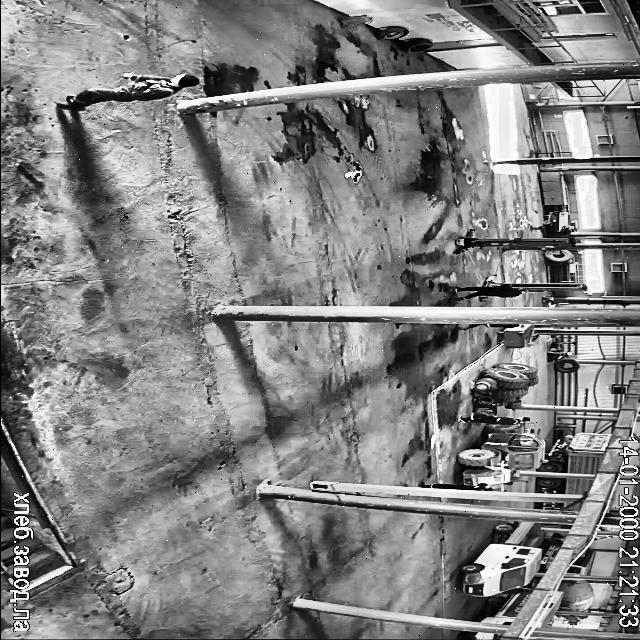car lift: (454, 229, 575, 253), (484, 275, 587, 292), (479, 296, 487, 300)
fire extinguisher: (340, 16, 372, 24)
mechanic: (60, 72, 198, 108), (455, 285, 525, 300), (459, 414, 530, 424), (420, 482, 492, 490), (464, 324, 519, 330)
tractor: (458, 424, 546, 488), (474, 362, 538, 414)
truck: (460, 522, 540, 596), (540, 432, 612, 473), (482, 590, 532, 624), (558, 580, 594, 620), (538, 477, 591, 494), (538, 592, 562, 628), (541, 534, 563, 572), (567, 549, 595, 575), (464, 632, 500, 640), (543, 500, 579, 508)
